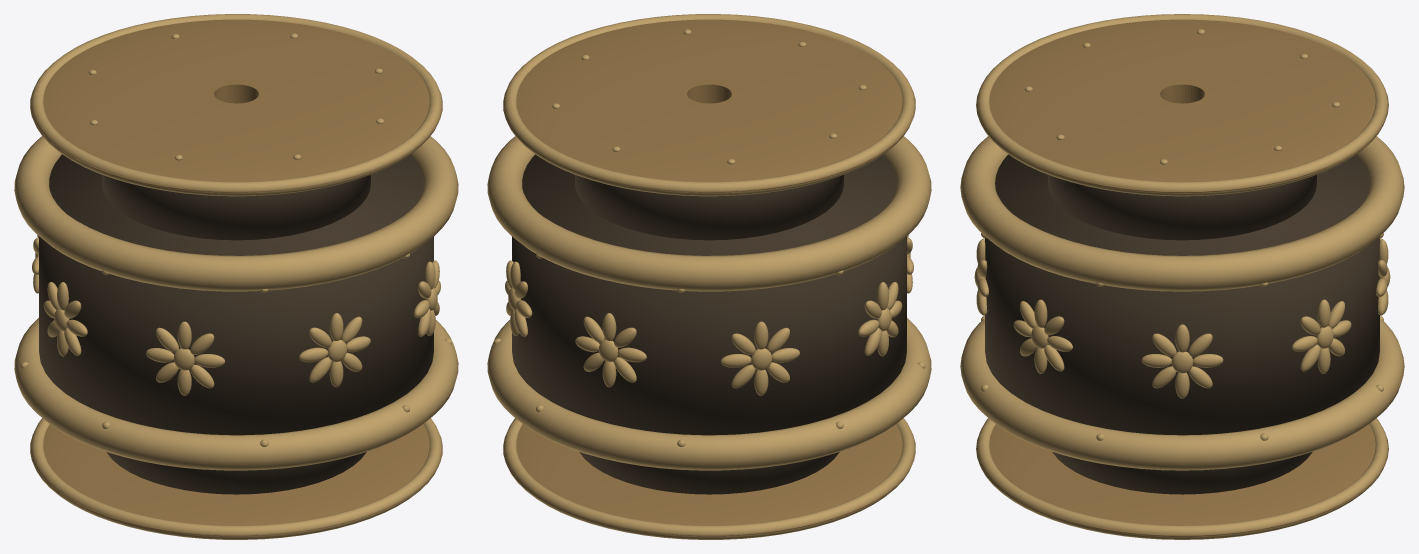
3 renders of one model, left to right at view 1: azimuth 30°, elevation 25°; view 2: azimuth 150°, elevation 25°; view 3: azimuth 270°, elevation 25°, orthographic.
Parts seen in each view (by area): view 1: inventory-member-001, inventory-member-029, inventory-member-003, inventory-member-002, inventory-member-020, inventory-member-041, inventory-member-039, inventory-member-038, inventory-member-040; view 2: inventory-member-001, inventory-member-029, inventory-member-003, inventory-member-002, inventory-member-020, inventory-member-041, inventory-member-039, inventory-member-038, inventory-member-040; view 3: inventory-member-001, inventory-member-029, inventory-member-003, inventory-member-002, inventory-member-020, inventory-member-041, inventory-member-039, inventory-member-038, inventory-member-040.
Part boxes in pixels (box(x1,y1,x2,y2)): inventory-member-001: box(39, 154, 433, 435); inventory-member-029: box(30, 19, 442, 192); inventory-member-003: box(14, 136, 458, 291); inventory-member-002: box(14, 318, 458, 470); inventory-member-020: box(30, 424, 442, 536); inventory-member-041: box(102, 174, 370, 240); inventory-member-039: box(31, 14, 441, 196); inventory-member-038: box(31, 418, 441, 539); inventory-member-040: box(106, 452, 366, 494); inventory-member-001: box(512, 154, 906, 435); inventory-member-029: box(503, 19, 915, 192); inventory-member-003: box(487, 136, 931, 291); inventory-member-002: box(487, 318, 931, 470); inventory-member-020: box(503, 424, 915, 536); inventory-member-041: box(575, 174, 843, 240); inventory-member-039: box(504, 14, 914, 196); inventory-member-038: box(504, 418, 914, 539); inventory-member-040: box(579, 452, 839, 494); inventory-member-001: box(985, 154, 1379, 435); inventory-member-029: box(976, 19, 1388, 192); inventory-member-003: box(960, 136, 1404, 291); inventory-member-002: box(960, 319, 1404, 470); inventory-member-020: box(976, 424, 1388, 536); inventory-member-041: box(1048, 174, 1316, 240); inventory-member-039: box(976, 14, 1388, 196); inventory-member-038: box(976, 418, 1388, 539); inventory-member-040: box(1052, 452, 1312, 494).
Bounding box in the file's own units: 0.0099 × 0.009 × 0.0099.
